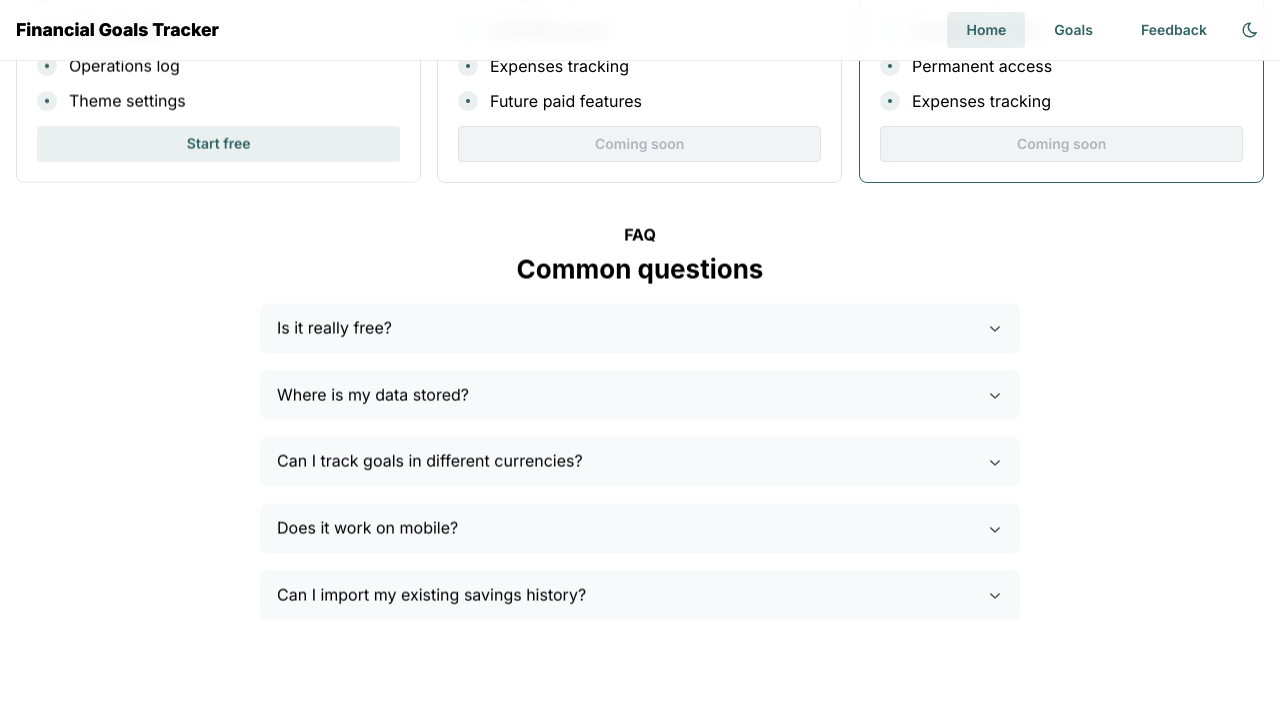
Landing Page › expands a FAQ accordion item
(page scrolled)
Click the button "Is it really free?" at point(334, 328), box x1=261 y1=304 x2=1019 y2=353
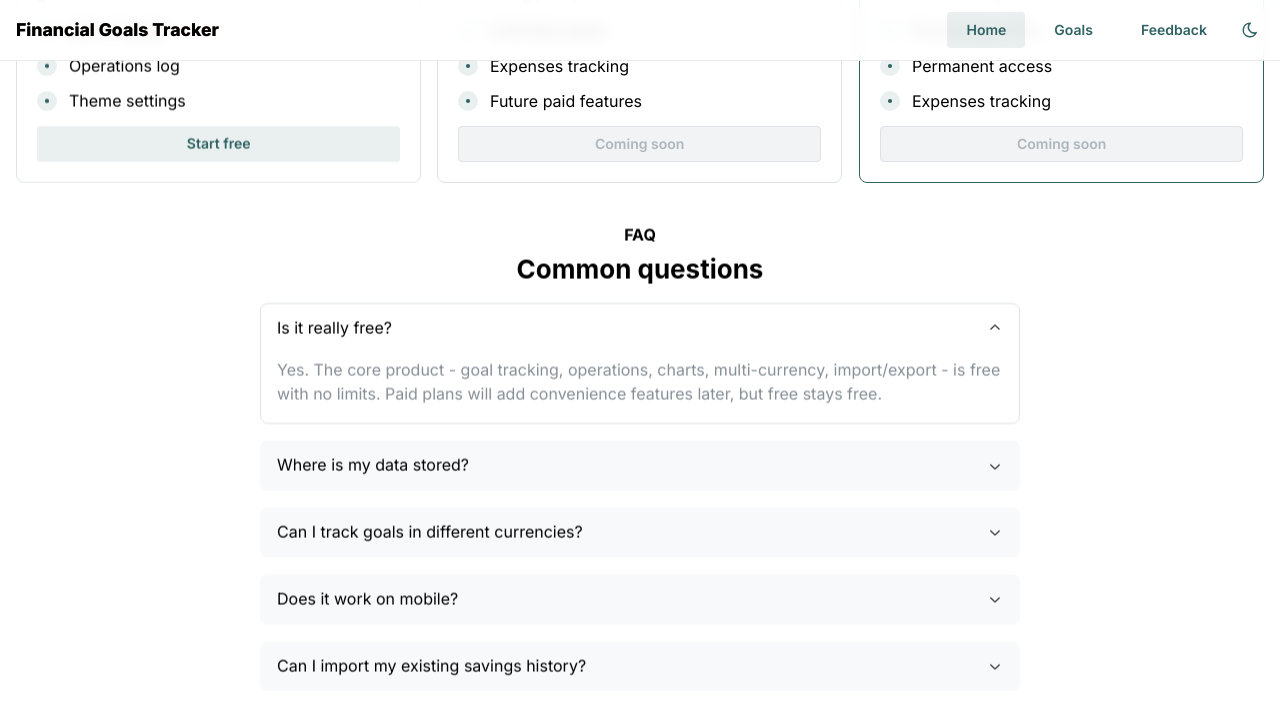
Now the text "free stays free" is shown, box x1=277 y1=359 x2=1000 y2=404
